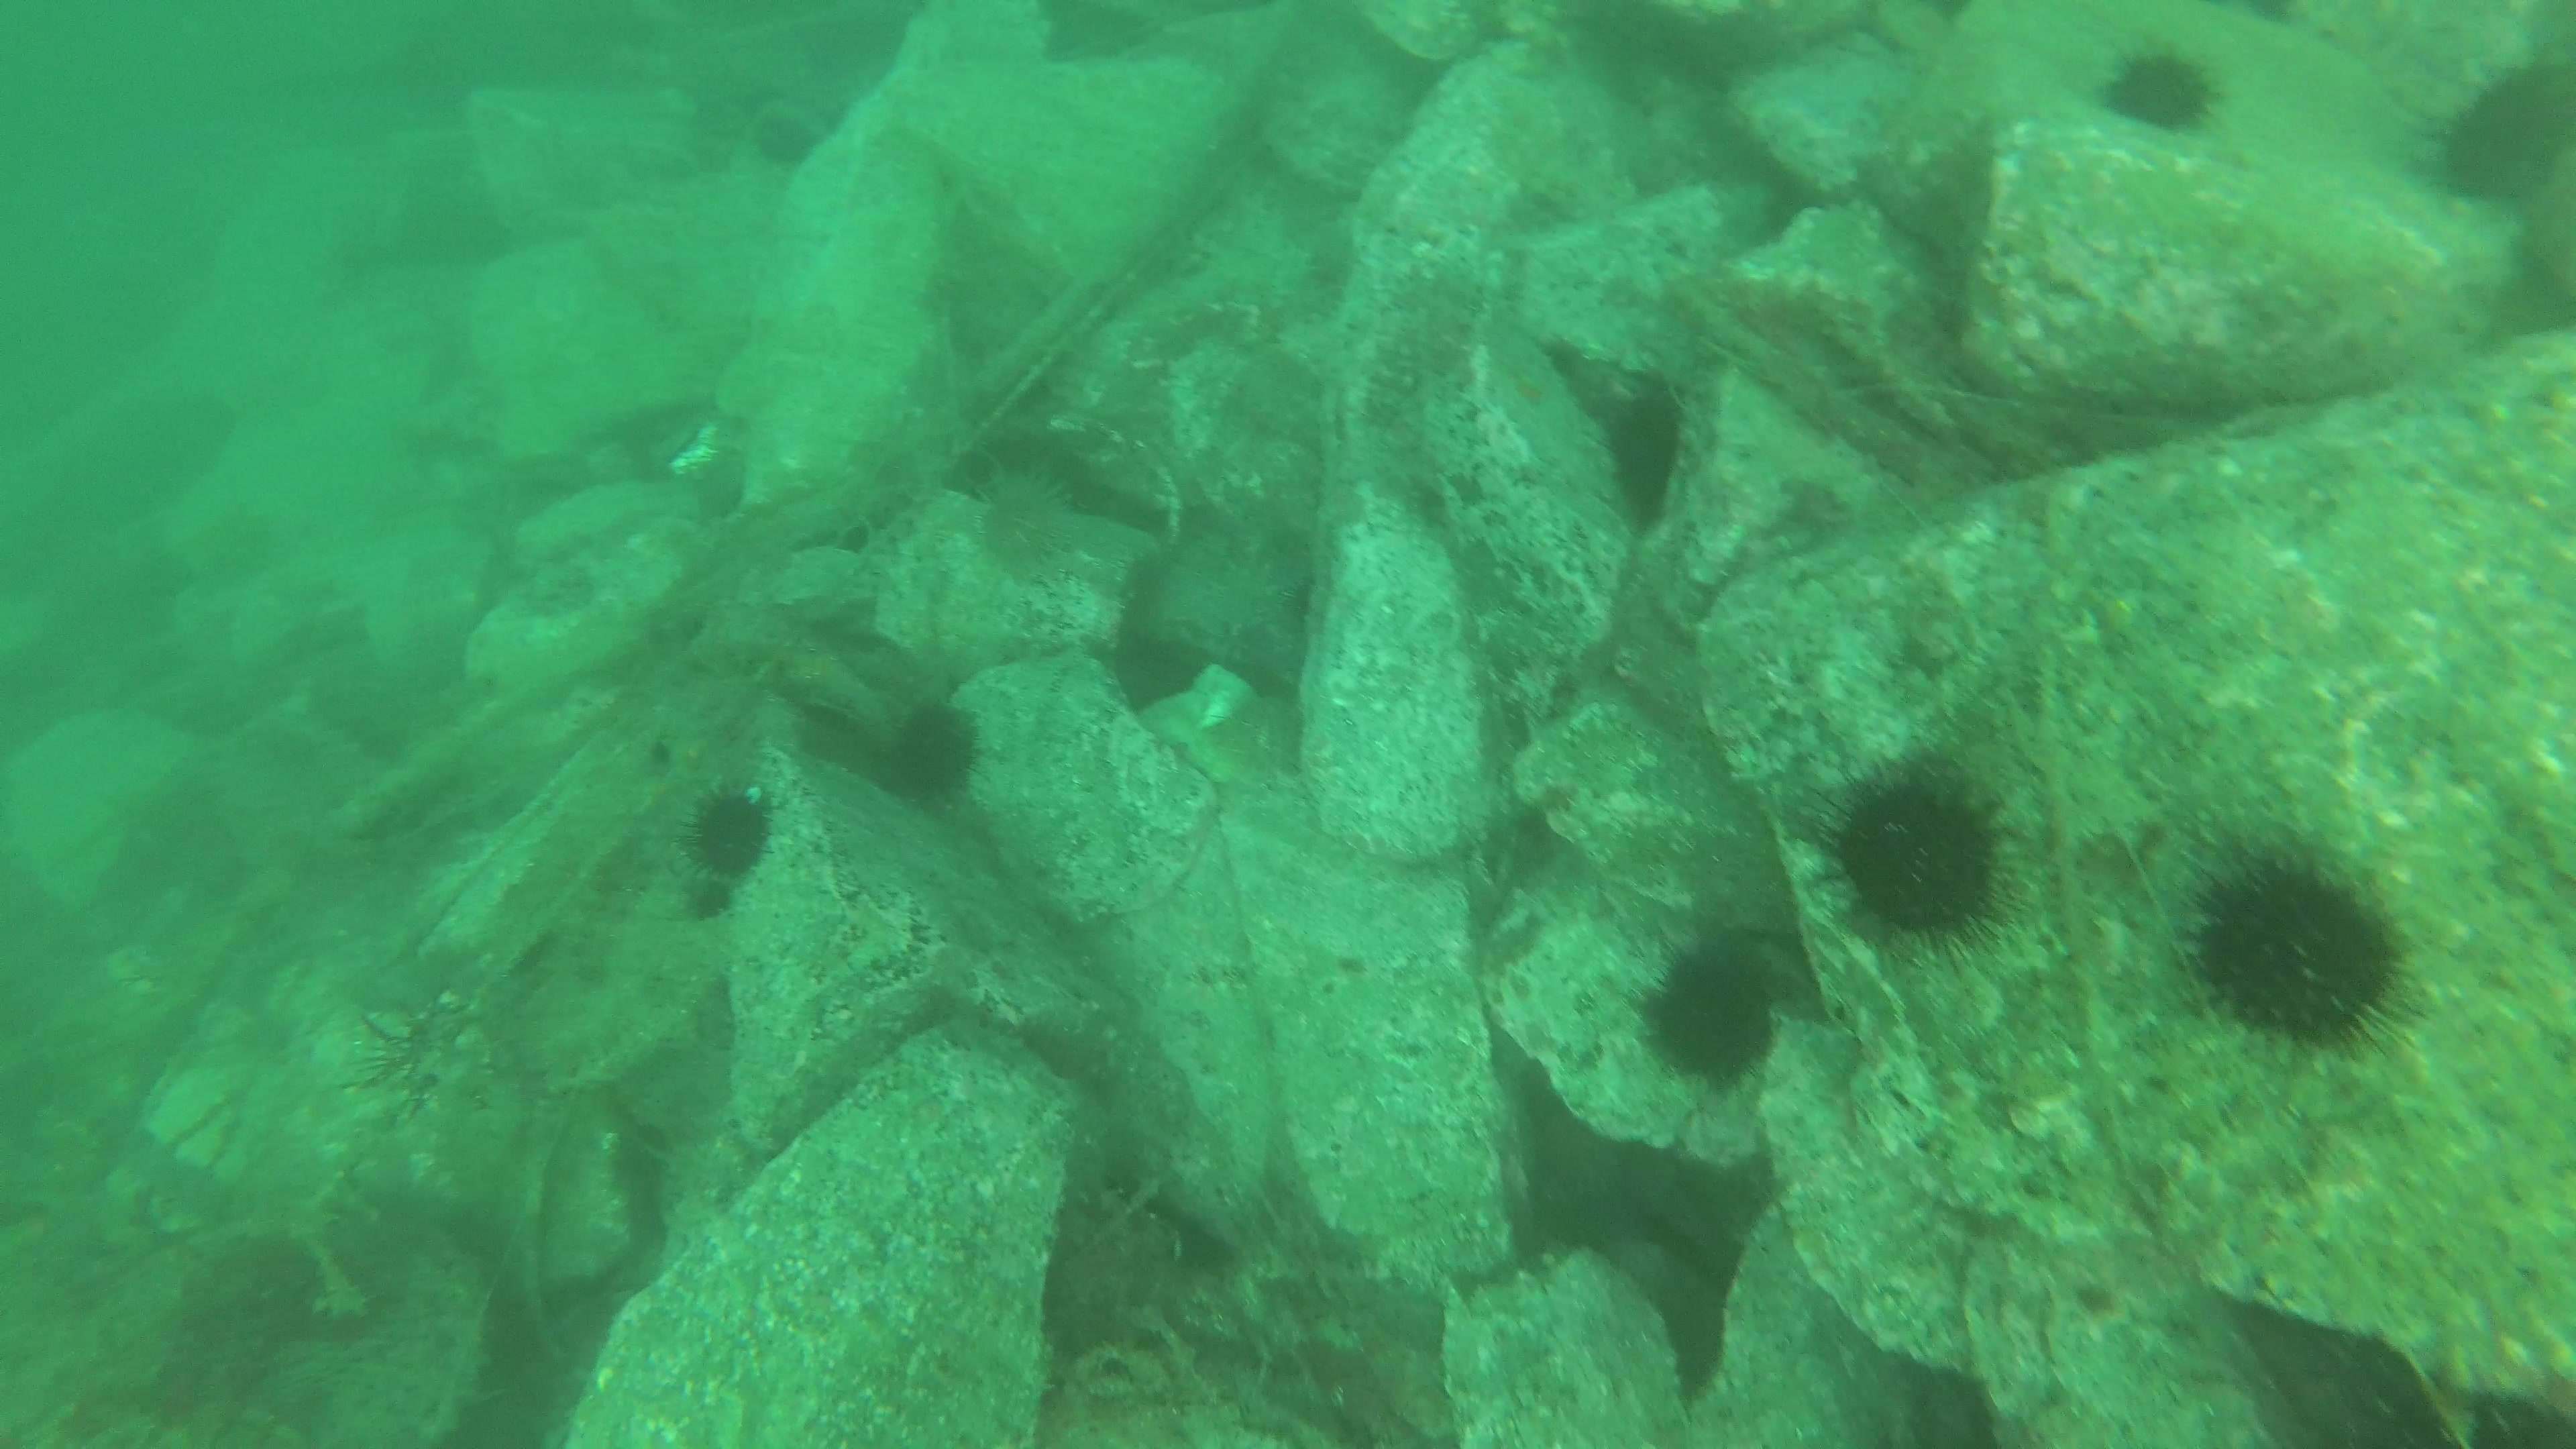echinus: (2181, 844, 2419, 1054), (1821, 764, 2019, 947), (2422, 53, 2572, 212), (1637, 938, 1787, 1092), (964, 460, 1088, 589), (1592, 375, 1698, 525), (872, 694, 989, 809), (2095, 41, 2226, 138), (678, 780, 782, 886), (745, 101, 826, 175)
